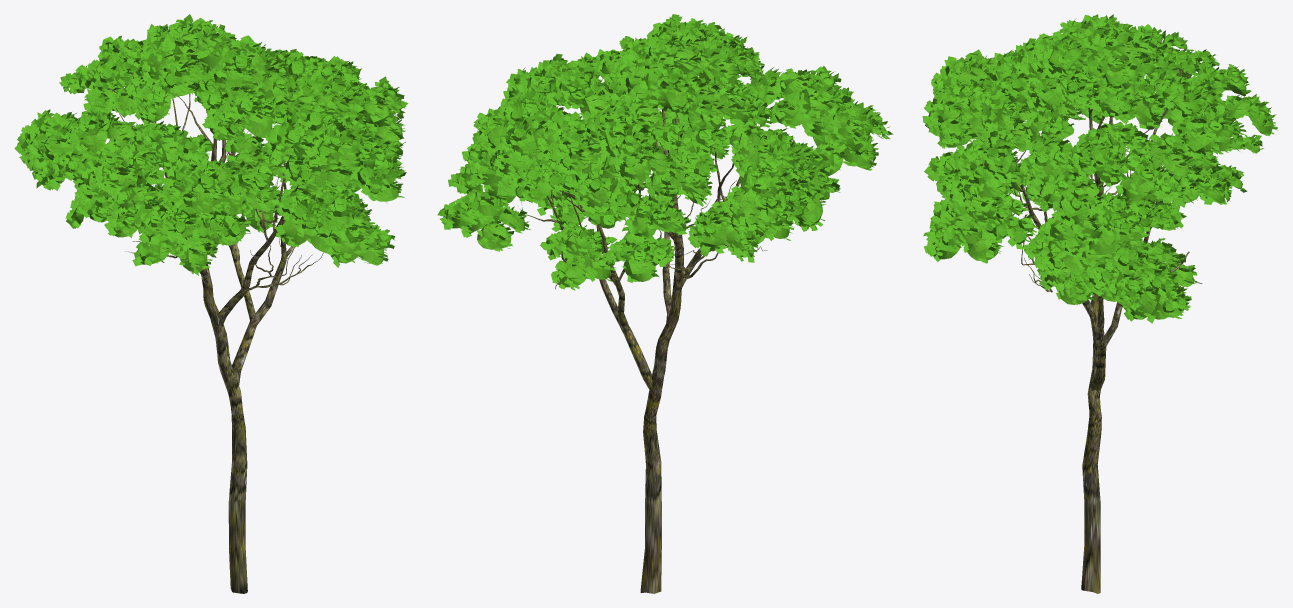
Rendered from NewTree.obj.
The picture shows the model from 3 angles, left to right: view 1: azimuth 30°, elevation 25°; view 2: azimuth 150°, elevation 25°; view 3: azimuth 270°, elevation 25°; orthographic projection. The views are drawn at different scales.
Parts seen in each view (by area): view 1: Mesh; view 2: Mesh; view 3: Mesh.
Boxes of the visible parts, left/top/right/bottom form: Mesh: left=14, top=14, right=408, bottom=593; Mesh: left=437, top=14, right=893, bottom=593; Mesh: left=922, top=14, right=1277, bottom=593.
Size of the model in its own units: 15.48 by 23.28 by 13.64.
